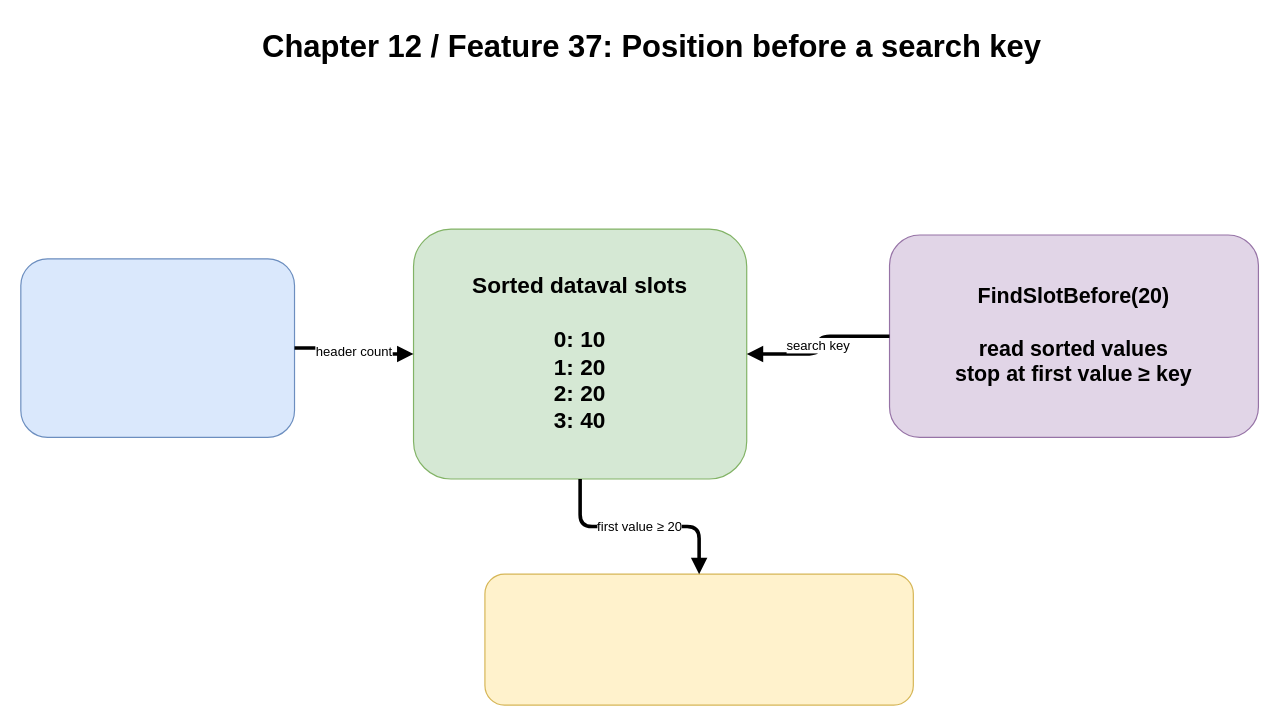
Image size: 1279x726. Some labels were removed from this diagram. The centre of each missing label's shape, as x and y in pixels:
"B-tree page header flag record count = 4" goes at point 157,347.
"Return slot 0 the slot immediately before the first duplicate key" goes at point 698,639.
